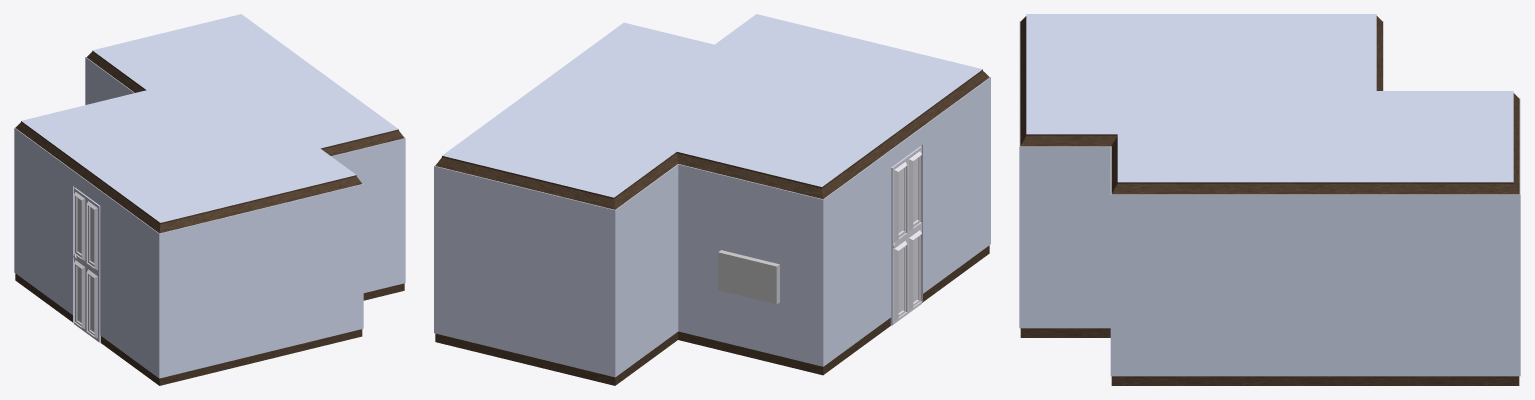
The picture shows the model from 3 angles, left to right: view 1: azimuth 30°, elevation 25°; view 2: azimuth 150°, elevation 25°; view 3: azimuth 270°, elevation 25°; orthographic projection. The views are drawn at different scales.
Parts seen in each view (by area): view 1: Room; view 2: Room, Shelf; view 3: Room.
Part boxes in pixels (box(x1,y1,x2,y2)): Room: box(14, 14, 405, 385); Room: box(434, 14, 990, 385); Shelf: box(718, 250, 779, 304); Room: box(1019, 14, 1520, 385).
Bounding box in the file's own units: 4.54 × 2.45 × 5.5.
110 materials, 21 textured.
